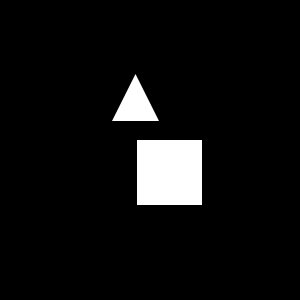circle: (137, 140, 202, 205)
triangle: (112, 74, 159, 121)
